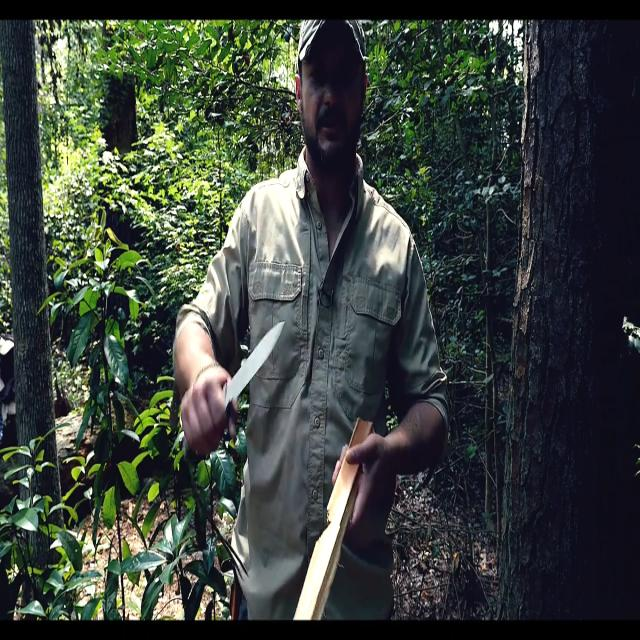knife: (226, 322, 288, 408)
